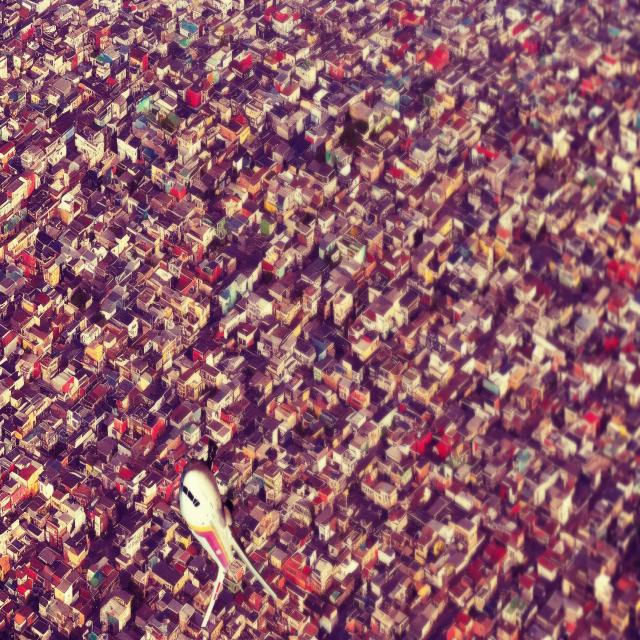airplane: (177, 457, 280, 628)
